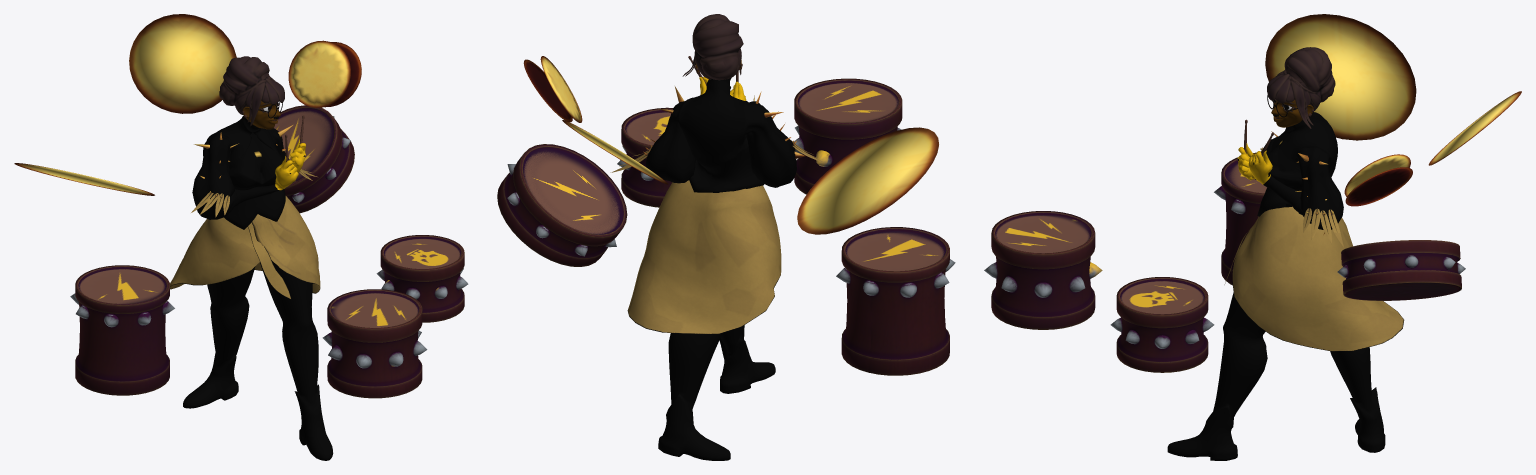
Rendered from RENDER_ABBY_CuteCam.fbx.
3 renders of one model, left to right at view 1: azimuth 30°, elevation 25°; view 2: azimuth 150°, elevation 25°; view 3: azimuth 270°, elevation 25°, orthographic. The views are drawn at different scales.
Visible parts, largest first — view 1: SM_Drums_01.001, SM_Abby_Body_01.001, SM_Abby_Cloth_01.001, SM_Abby_Hair_01.001; view 2: SM_Drums_01.001, SM_Abby_Body_01.001, SM_Abby_Cloth_01.001, SM_Abby_Hair_01.001; view 3: SM_Drums_01.001, SM_Abby_Body_01.001, SM_Abby_Cloth_01.001, SM_Abby_Hair_01.001.
Part boxes in pixels (left/top/right/bottom): SM_Drums_01.001: left=14, top=14, right=468, bottom=398; SM_Abby_Body_01.001: left=183, top=101, right=333, bottom=460; SM_Abby_Cloth_01.001: left=170, top=101, right=320, bottom=299; SM_Abby_Hair_01.001: left=219, top=56, right=284, bottom=126; SM_Drums_01.001: left=497, top=56, right=955, bottom=375; SM_Abby_Body_01.001: left=645, top=60, right=805, bottom=460; SM_Abby_Cloth_01.001: left=610, top=140, right=824, bottom=334; SM_Abby_Hair_01.001: left=682, top=14, right=743, bottom=80; SM_Drums_01.001: left=984, top=14, right=1521, bottom=372; SM_Abby_Body_01.001: left=1167, top=99, right=1385, bottom=460; SM_Abby_Cloth_01.001: left=1224, top=95, right=1404, bottom=351; SM_Abby_Hair_01.001: left=1267, top=47, right=1335, bottom=128.
Size of the model in its own units: 148 by 144 by 179.
